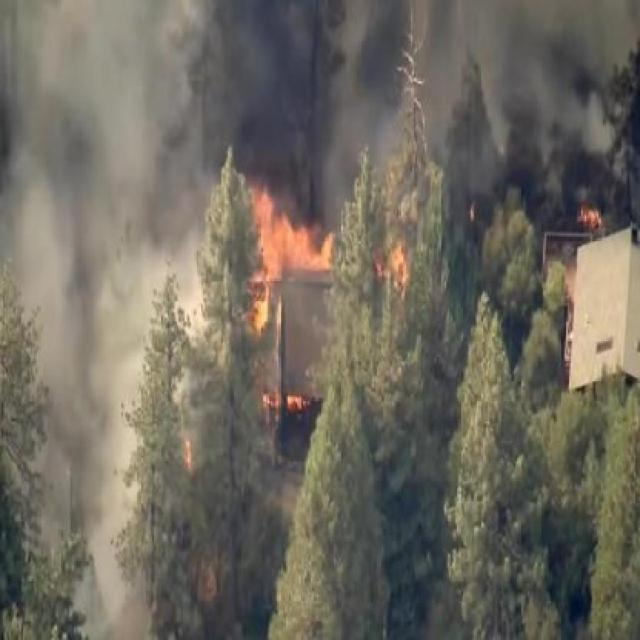Fire: (243, 181, 418, 422)
Smoke: (18, 0, 637, 640)
